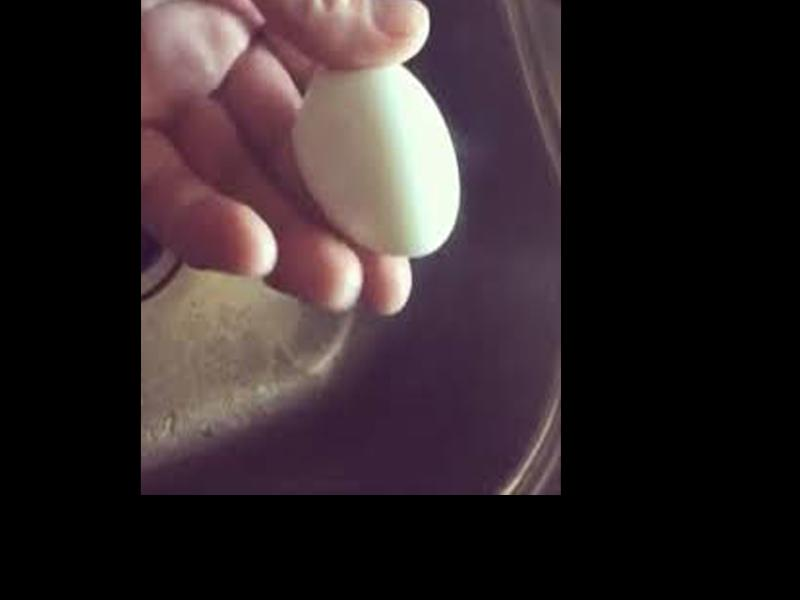Eggs: (297, 60, 460, 253)
